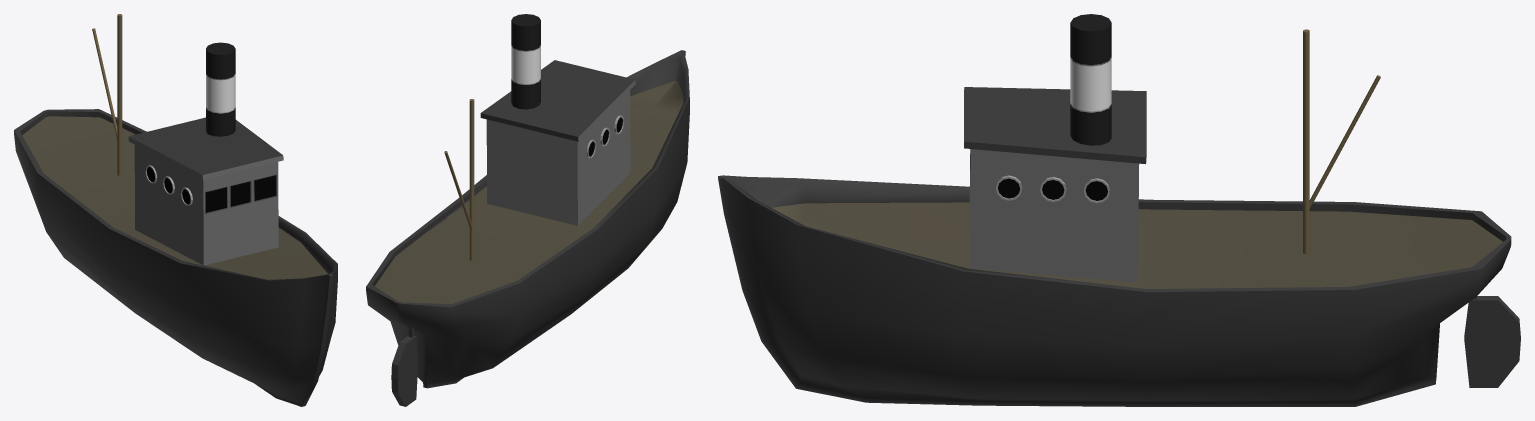
The model's file is Gbg400_ship.fbx.
3 renders of one model, left to right at view 1: azimuth 30°, elevation 25°; view 2: azimuth 150°, elevation 25°; view 3: azimuth 270°, elevation 25°, orthographic. The views are drawn at different scales.
Visible parts, largest first — view 1: Cube; view 2: Cube; view 3: Cube.
Boxes of the visible parts, x1=… form: Cube: x1=14, y1=14, x2=337, y2=406; Cube: x1=366, y1=14, x2=689, y2=406; Cube: x1=718, y1=14, x2=1520, y2=406.
Bounding box in the file's own units: 231 × 464 × 846.
1 material, 1 textured.
